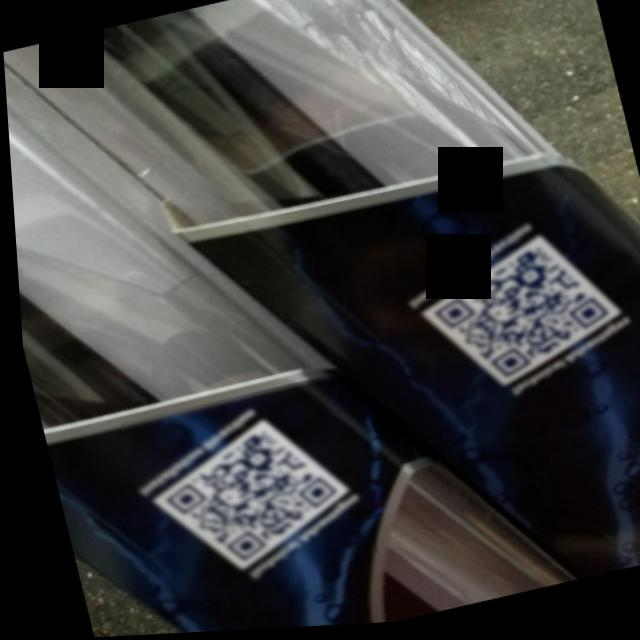QR_CODE: (376, 193, 640, 436), (111, 376, 371, 606)
